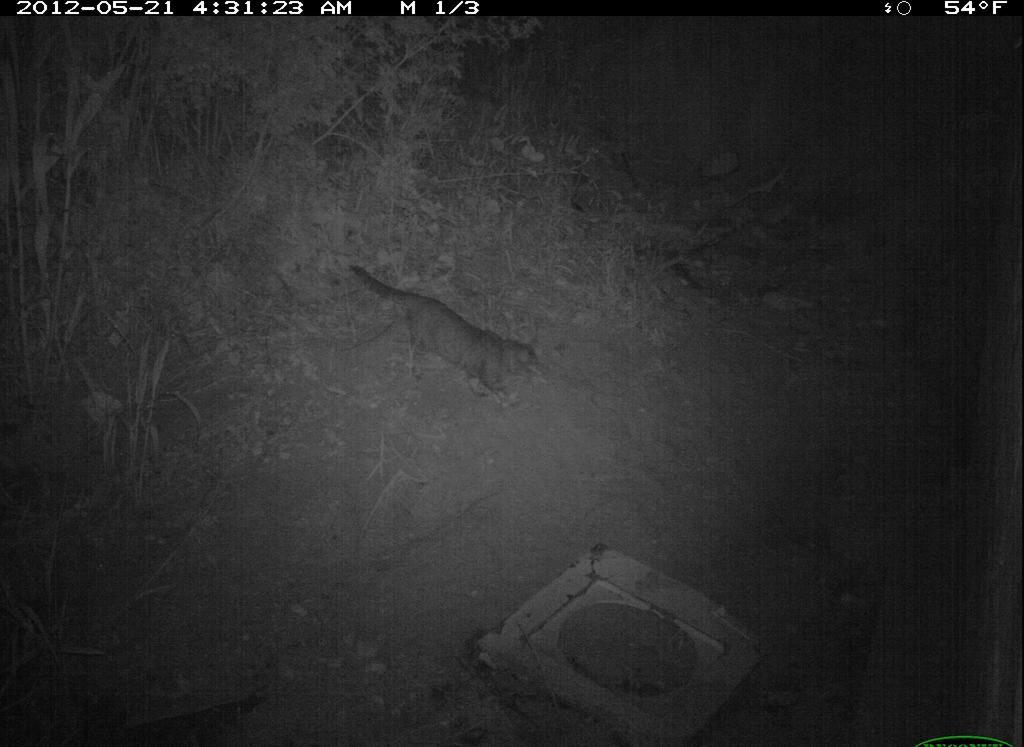cat: (333, 251, 565, 409)
